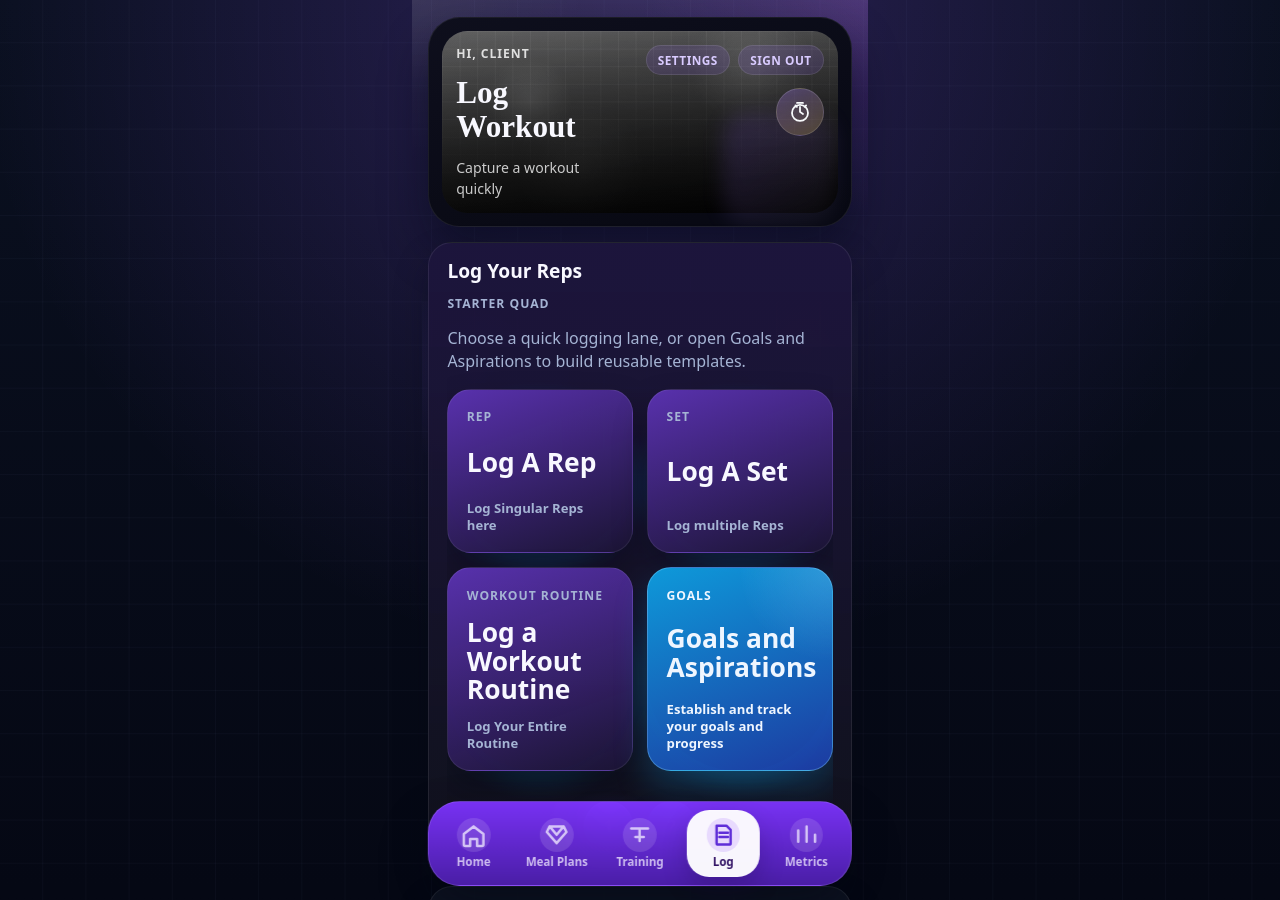
it: AddLogPage mobile experience › opens the timer session, advances the stopwatch, posts CLOCK IT through the existing BFF route, and refreshes history
Click the button named "Open workout timer". click: (800, 112)
box: [776,88,824,136]
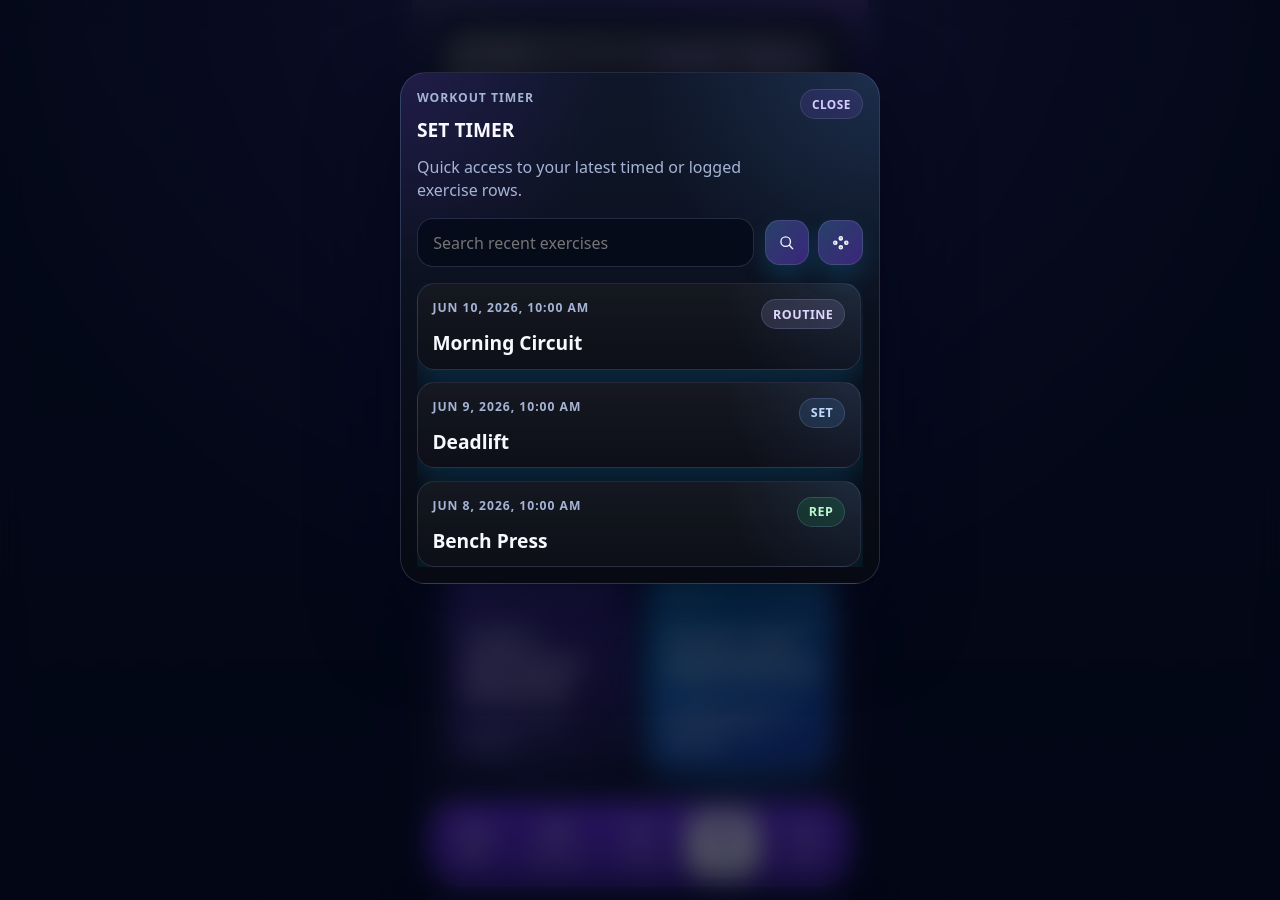
Click the button named "Open timer session for Bench Press". click: (507, 505)
box: [417,481,861,567]
Wait 3000 ms
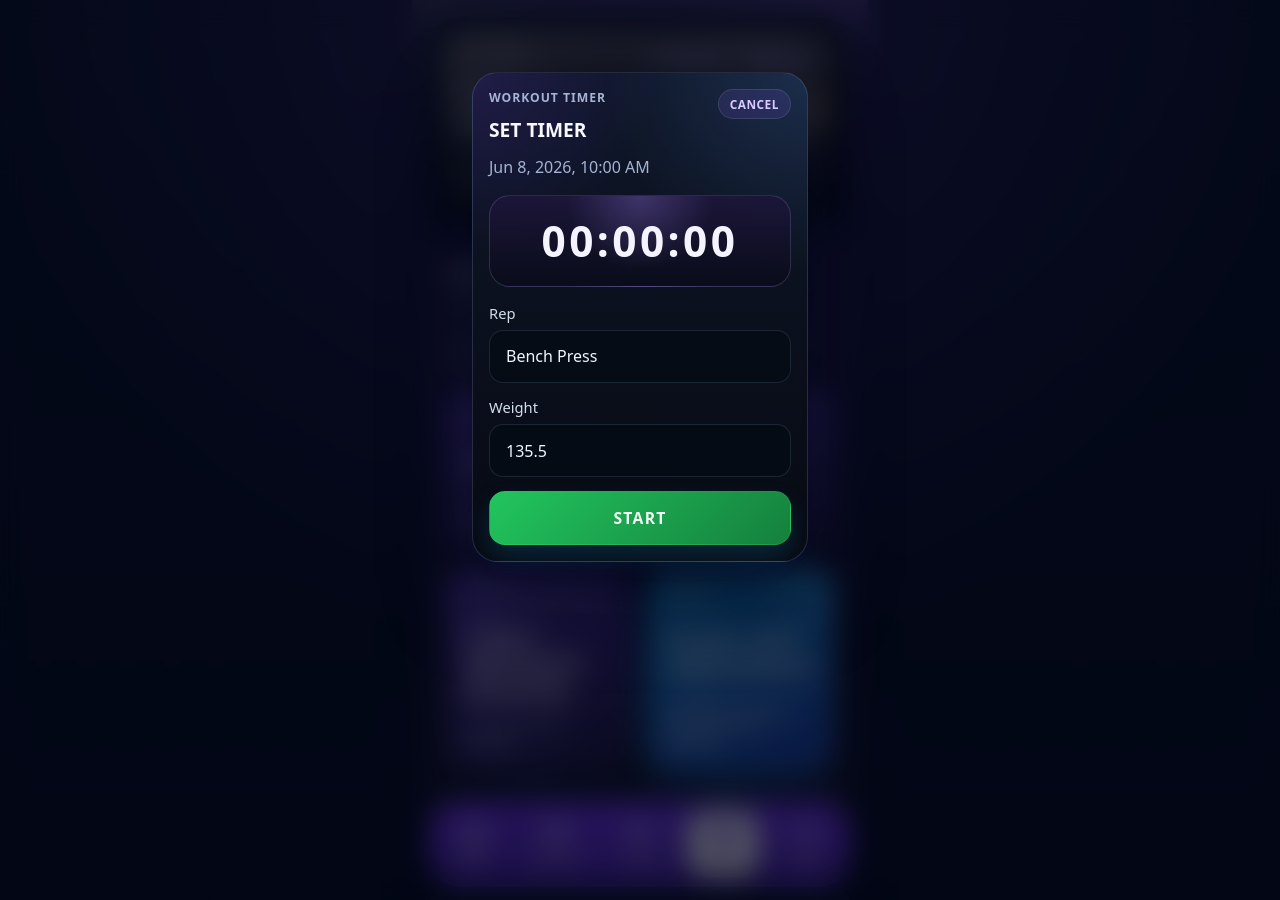
Expected: the field labelled "Rep" holds "Bench Press", [489,330,791,383]
Expected: the number field labelled "Weight" holds "135.5", [489,424,791,477]
Expected: the text "00:00:00" is shown, [489,195,791,287]
Click the button "START". click: (640, 518)
box: [489,491,791,545]
Wait 3000 ms
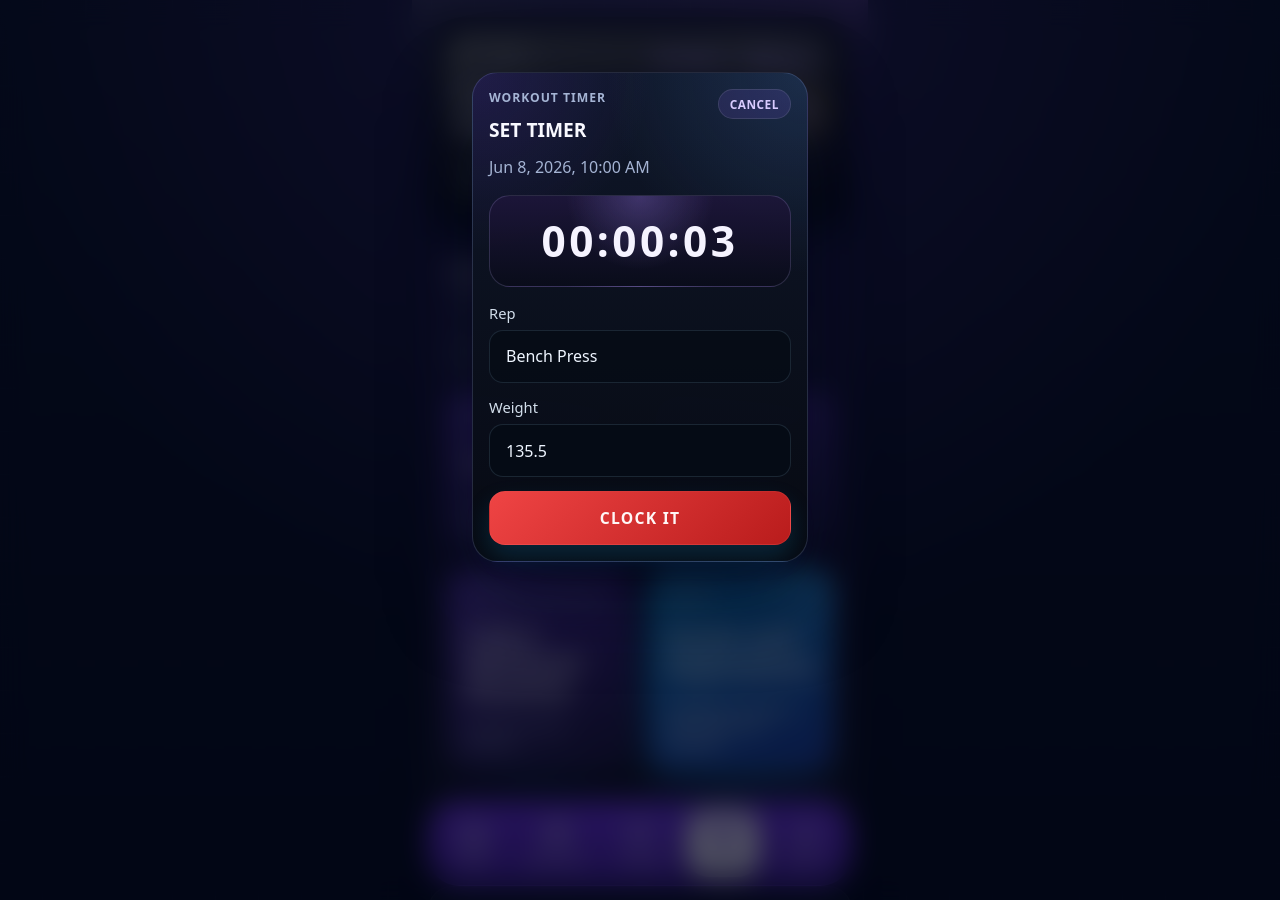
Expected: the text "00:00:03" is shown, [489,195,791,287]
Click the button "CLOCK IT". click: (640, 518)
box: [489,491,791,545]
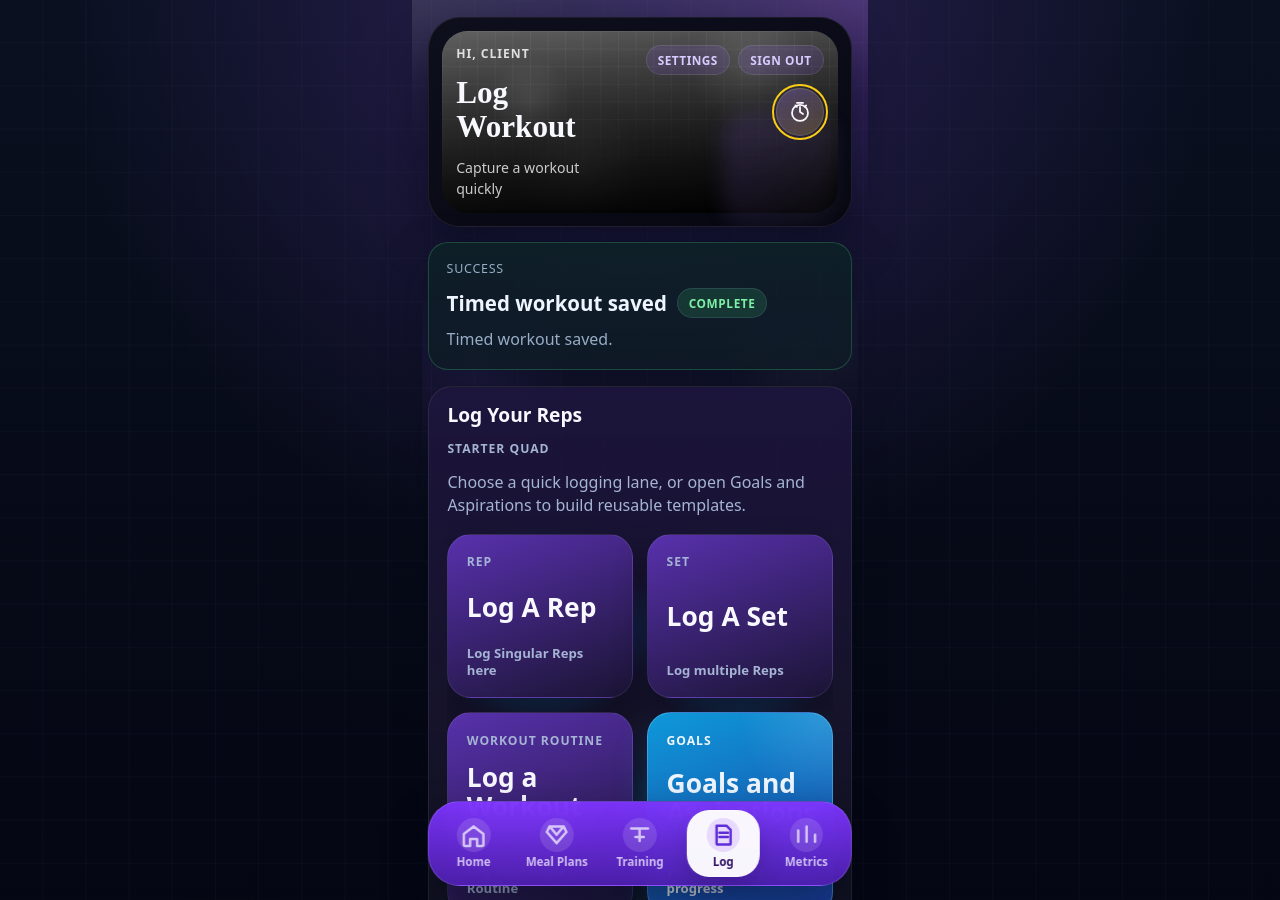
Expected: the text "Timed workout saved." is shown, [447,328,612,350]
Expected: the heading "SET TIMER" is gone
